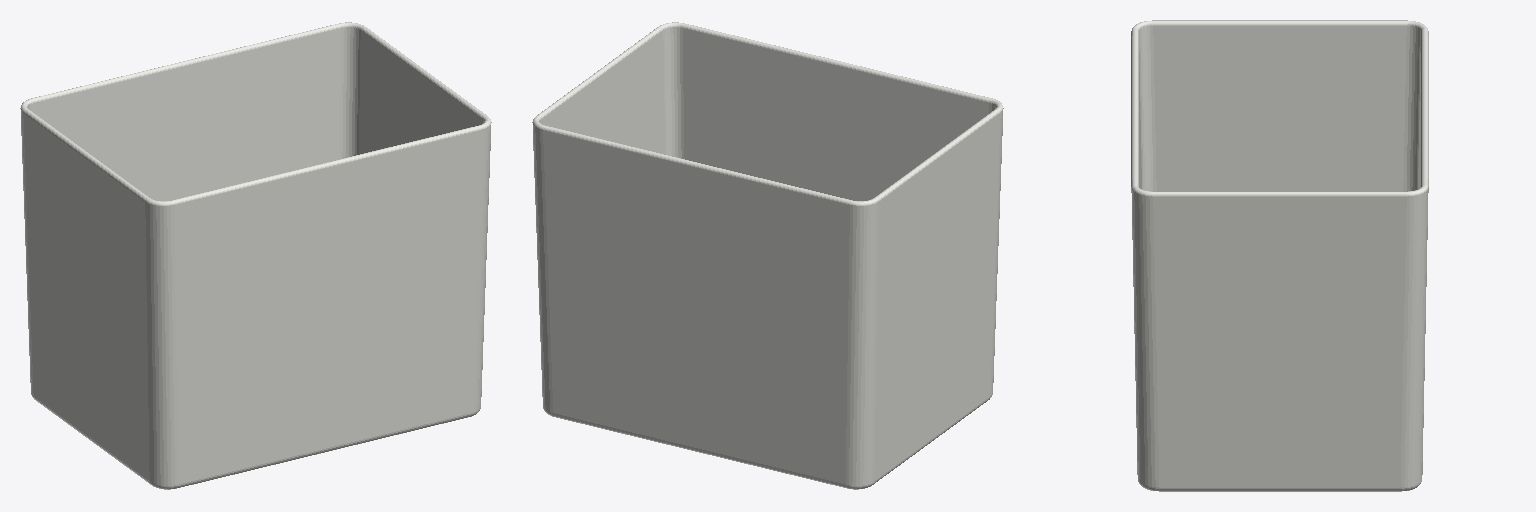
URDF robot description (cb_fastener_bin):
<?xml version="1.0"?>
<!-- ContactBench fastener_bin. Generated by FoundationTouch tools/contactbench/make_contactbench_assets.py -->
<robot name="cb_fastener_bin">
  <material name="c"><color rgba="0.92 0.92 0.90 1.0"/></material>
  <link name="receptive">
    <visual><origin xyz="0 0 0" rpy="0 0 0"/><geometry><mesh filename="fastener_bin.obj" scale="1 1 1"/></geometry><material name="c"/></visual>
    <collision><origin xyz="0 0 0" rpy="0 0 0"/><geometry><mesh filename="fastener_bin.obj" scale="1 1 1"/></geometry><sdf resolution="512"/></collision>
  </link>
</robot>

--- Render facts (derived) ---
3 views of the same robot in one strip: view 1: azimuth 30°, elevation 25°; view 2: azimuth 150°, elevation 25°; view 3: azimuth 270°, elevation 25° (orthographic).
Robot: cb_fastener_bin — 1 links, 0 joints (none); root link receptive; default pose: every joint at zero.
Visible links, largest first — view 1: receptive; view 2: receptive; view 3: receptive.
Boxes of the visible links, x1,y1,x2,y2 form: receptive: (20, 22, 491, 489); receptive: (532, 22, 1003, 489); receptive: (1131, 20, 1428, 491).
Bounding box of the posed robot: 0.0565 × 0.0407 × 0.046 m (x, y, z).
1 mesh visuals loaded from 1 distinct referenced files (1 OBJ).
